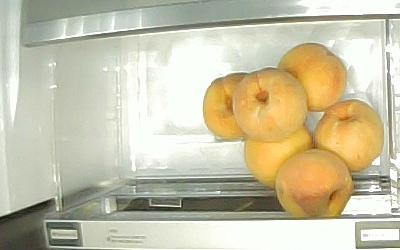peach: (231, 66, 307, 142), (276, 148, 352, 219), (312, 99, 384, 172), (277, 42, 347, 111), (244, 123, 313, 188), (202, 72, 250, 141)
